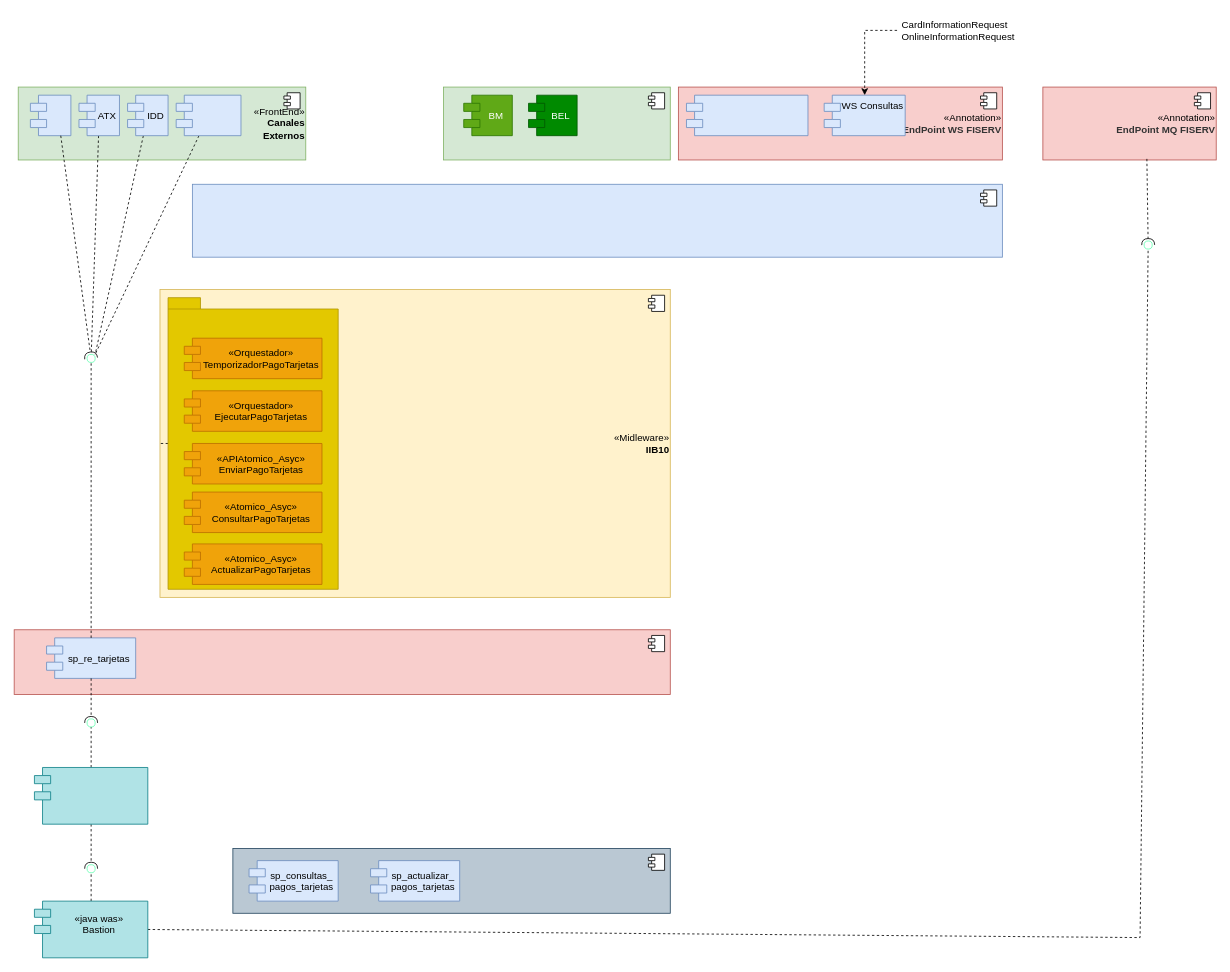
Some shapes in this 1230 by 972 pixel diagram are drawn without their labels. Each missing label, with the box of its shape:
ACH: (30, 94, 71, 136)
BG_ESB_PagosTarjetas_SI: (167, 297, 338, 589)
CARTERA: (175, 94, 241, 136)
WS Pagos: (686, 94, 808, 136)
«BdD» Cobis: (232, 848, 670, 913)
«Core Banc» CTS: (13, 629, 670, 695)
«FrontEnd» Canales Internos: (443, 86, 670, 160)
«Gateway» DataPower: (192, 183, 1002, 257)
«java was» ConectorGenerico: (34, 767, 148, 824)
